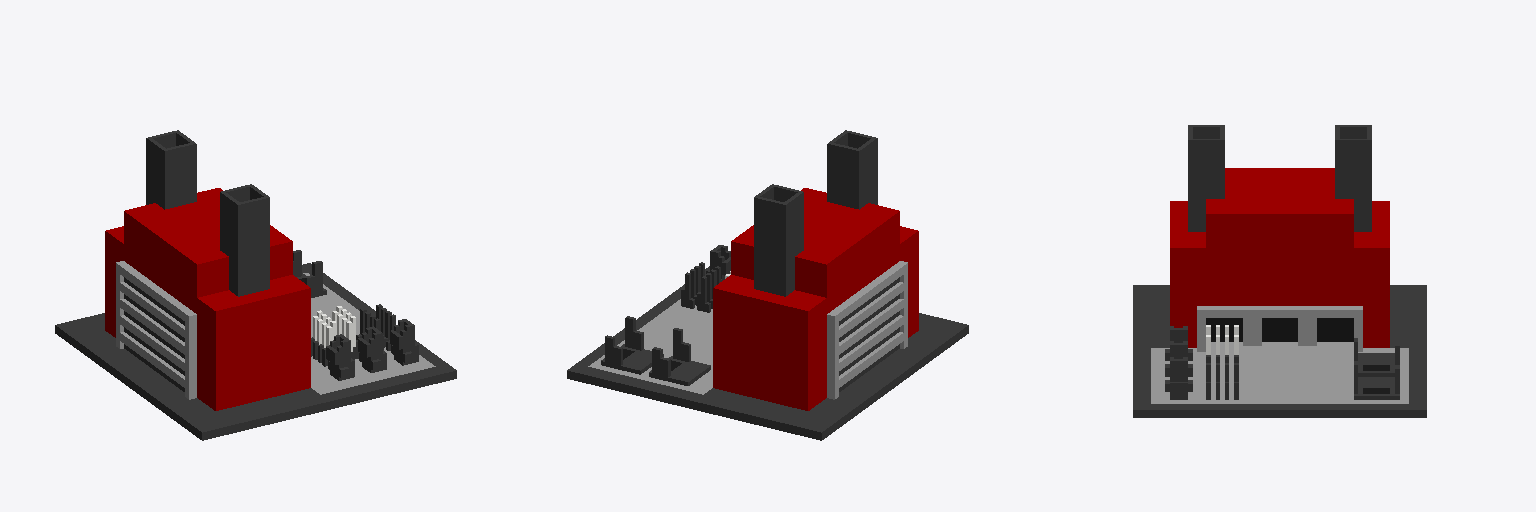
The picture shows the model from 3 angles: view 1: azimuth 30°, elevation 25°; view 2: azimuth 150°, elevation 25°; view 3: azimuth 270°, elevation 25°; orthographic projection.
Parts seen in each view (by area): view 1: Red-8; view 2: Red-8; view 3: Red-8.
Part boxes in pixels (x1,y1,x2,y2): Red-8: (55, 130, 456, 440); Red-8: (567, 130, 968, 440); Red-8: (1133, 125, 1426, 417).
Bounding box in the file's own units: 64 × 48 × 64.
1 materials, 1 textured.